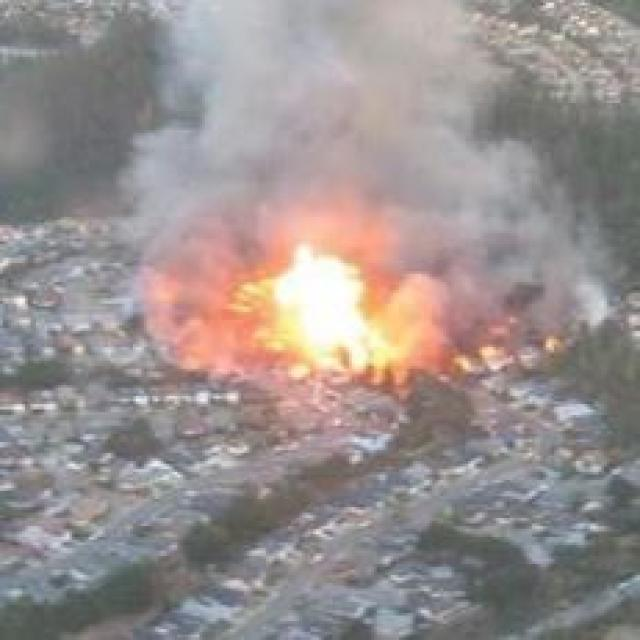Fire: (260, 253, 442, 381)
Smoke: (144, 0, 612, 361)
